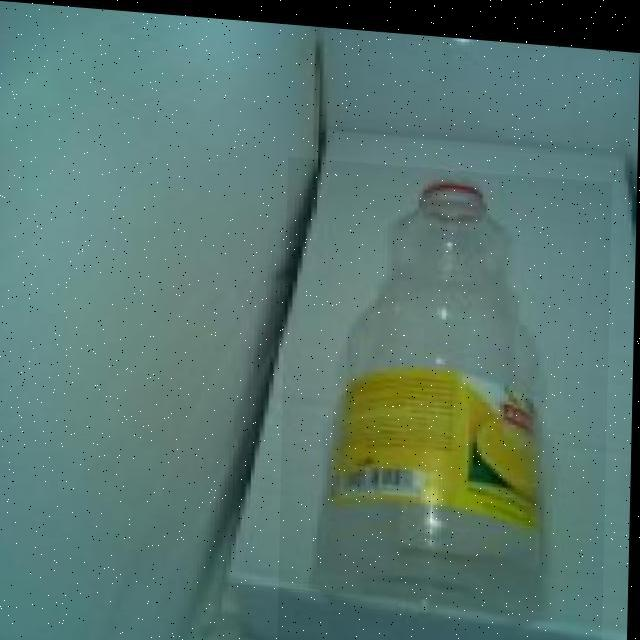plastic: (280, 151, 613, 640)
